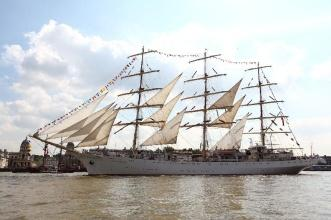fanchuan: (38, 45, 318, 175)
